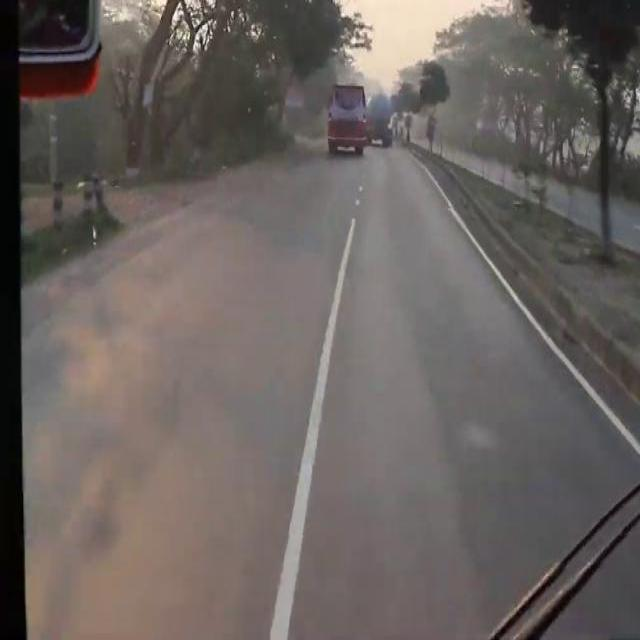bus: (326, 84, 367, 148)
